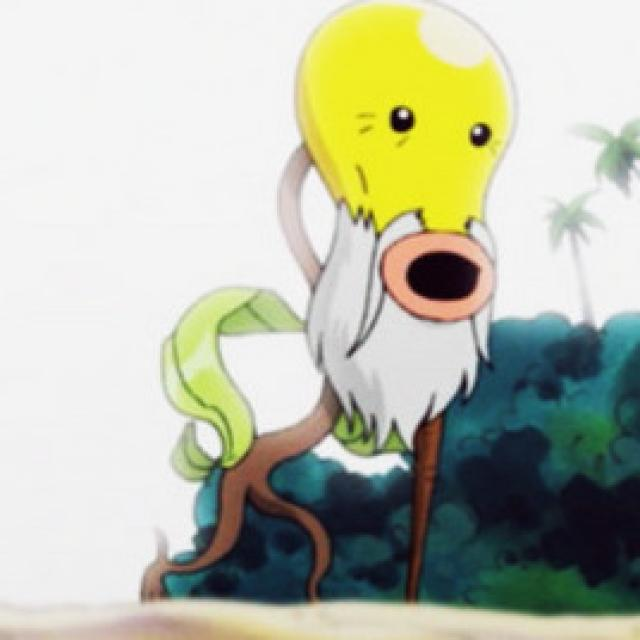Bellsprout: (259, 8, 536, 458)
